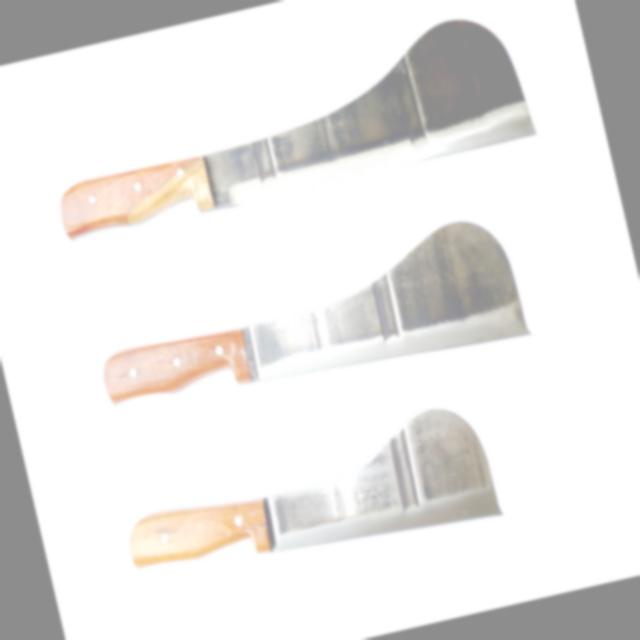eto: (54, 17, 540, 250), (75, 200, 542, 436), (104, 385, 516, 611)
